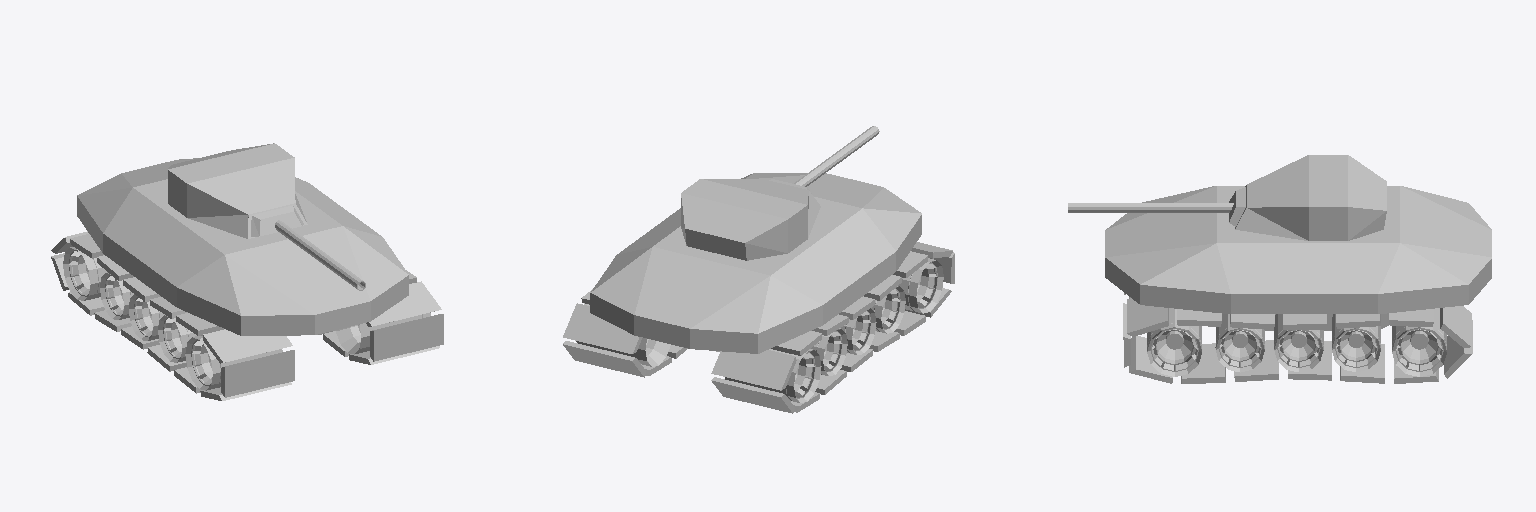
Rendered from tank_whole_no_texture.obj.
The picture shows the model from 3 angles: view 1: azimuth 30°, elevation 25°; view 2: azimuth 150°, elevation 25°; view 3: azimuth 270°, elevation 25°; orthographic projection.
Visible parts, largest first — view 1: Cube.003_Cube, Cylinder, Cube.002, Cylinder.001_Cylinder.002, Cube.000_Cube.001, Cylinder.010_Cylinder.011; view 2: Cube.003_Cube, Cylinder, Cube.002, Cylinder.001_Cylinder.002, Cube.000_Cube.001, Cylinder.010_Cylinder.011; view 3: Cube.003_Cube, Cylinder, Cube.000_Cube.001, Cylinder.010_Cylinder.011.
Boxes of the visible parts, x1=… form: Cube.003_Cube: x1=77, y1=158, x2=408, y2=335; Cylinder: x1=168, y1=143, x2=365, y2=290; Cube.002: x1=51, y1=231, x2=294, y2=400; Cylinder.001_Cylinder.002: x1=63, y1=247, x2=282, y2=390; Cube.000_Cube.001: x1=318, y1=270, x2=443, y2=364; Cylinder.010_Cylinder.011: x1=335, y1=313, x2=430, y2=354; Cube.003_Cube: x1=590, y1=173, x2=921, y2=353; Cylinder: x1=681, y1=126, x2=879, y2=260; Cube.002: x1=711, y1=242, x2=954, y2=413; Cylinder.001_Cylinder.002: x1=725, y1=258, x2=943, y2=402; Cube.000_Cube.001: x1=563, y1=289, x2=687, y2=377; Cylinder.010_Cylinder.011: x1=576, y1=303, x2=670, y2=366; Cube.003_Cube: x1=1105, y1=186, x2=1491, y2=330; Cylinder: x1=1068, y1=155, x2=1386, y2=240; Cube.000_Cube.001: x1=1123, y1=298, x2=1472, y2=383; Cylinder.010_Cylinder.011: x1=1147, y1=308, x2=1446, y2=376.
Bounding box in the file's own units: 4.2 × 2.75 × 7.06.